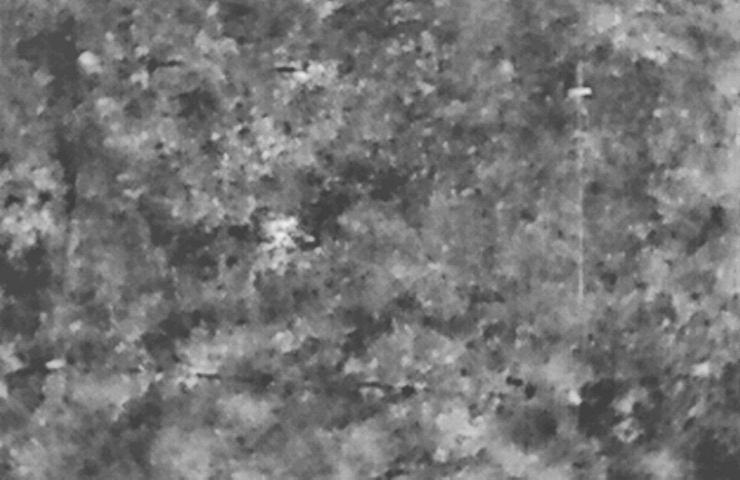landmines: (261, 215, 302, 252)
